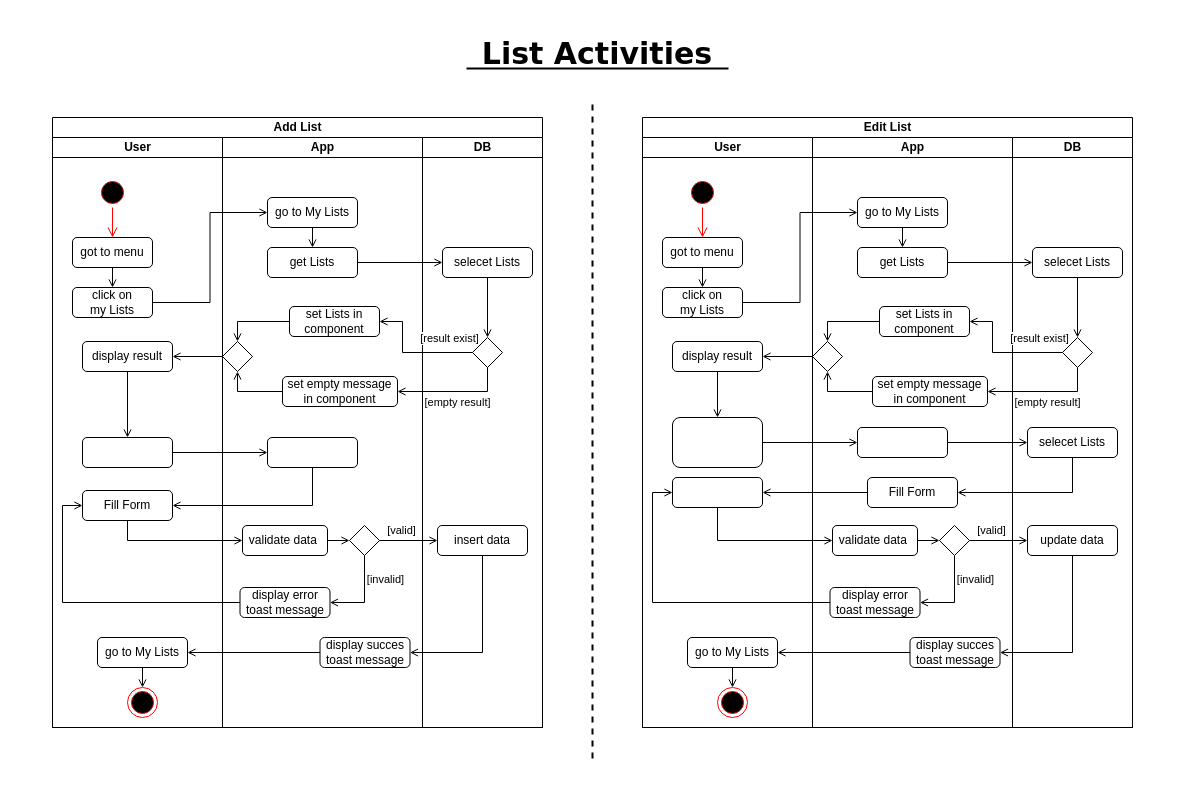
Image size: 1184x794. Some labels were removed from this diagram. The shapes that lost their labels are listed below. From the top down, each one's centre as x and y in pixels, then its label:
the point at 127,452: click on + Button
the point at 312,452: go to Add List Component
the point at 717,442: click on edit Button from subMenu
the point at 902,442: go to Edit List Component
the point at 717,492: update Form data
